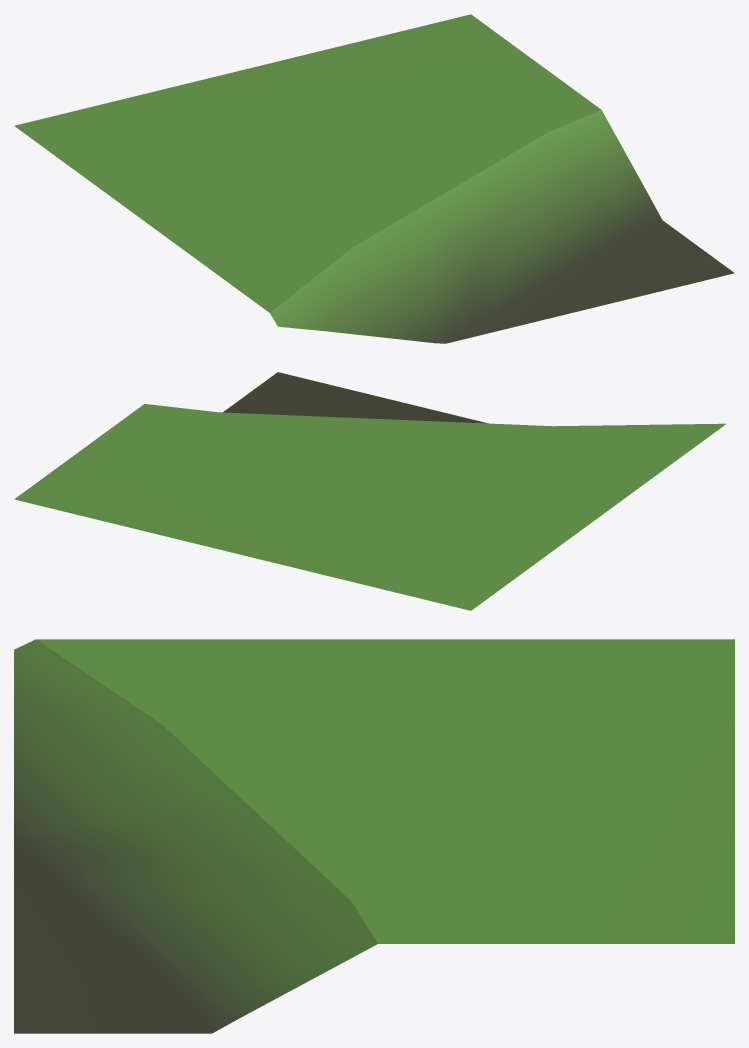
Rendered from terrain_16_4_2.glb.
The picture shows the model from 3 angles, top to bottom: view 1: azimuth 30°, elevation 25°; view 2: azimuth 150°, elevation 25°; view 3: azimuth 270°, elevation 25°; orthographic projection. The views are drawn at different scales.
Visible parts, largest first — view 1: m; view 2: m; view 3: m.
Boxes of the visible parts, box(x1,y1,x2,y2) form: m: box(14, 14, 734, 343); m: box(14, 372, 726, 610); m: box(14, 639, 734, 1033).
Size of the model in its own units: 4 by 0.55 by 4.
